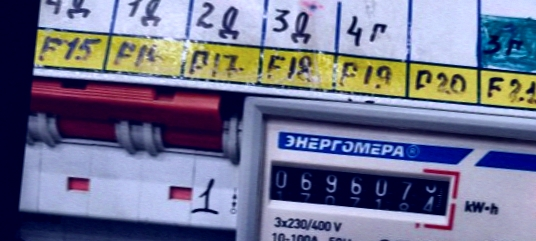0: (372, 174, 389, 197), (272, 166, 288, 189)
4: (420, 192, 435, 214)
6: (297, 168, 313, 190), (347, 173, 363, 194)
7: (397, 178, 414, 201)
9: (322, 171, 337, 193)
screen: (253, 148, 464, 228)
